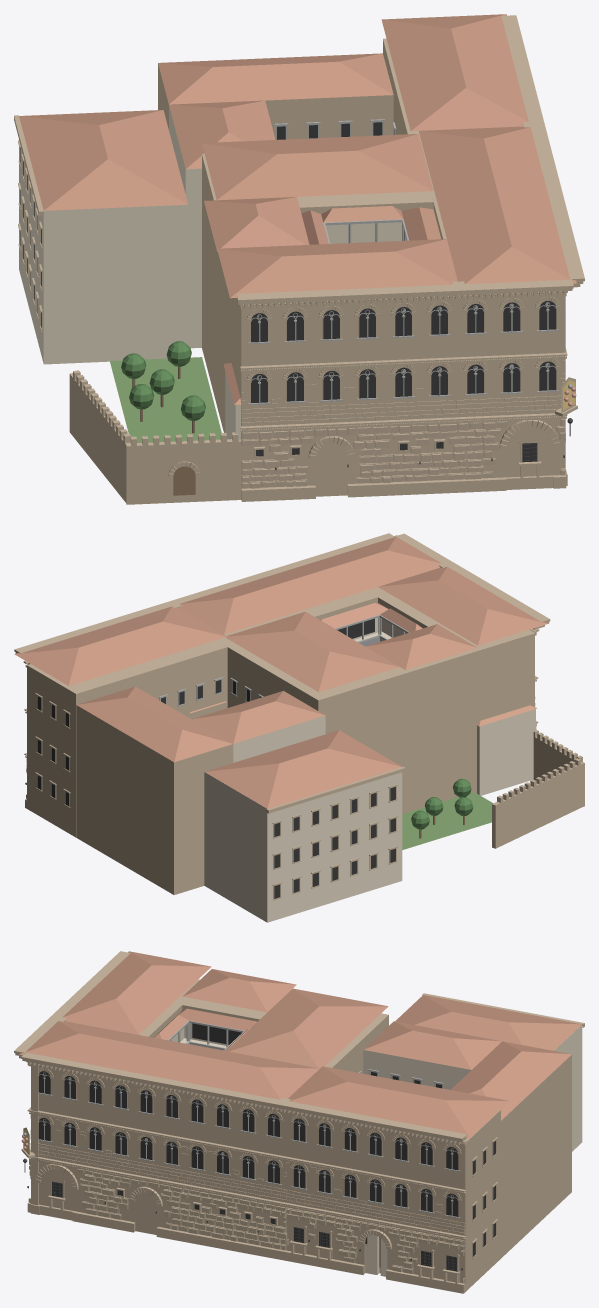
The model's file is medici_riccardi.glb.
3 renders of one model, top to bottom at view 1: azimuth 30°, elevation 25°; view 2: azimuth 150°, elevation 25°; view 3: azimuth 270°, elevation 25°, orthographic. The views are drawn at different scales.
Parts seen in each view (by area): view 1: michelozzo@1452-99999.stone, michelozzo@1452-99999.roof, riccardi@1689-99999.roof, riccardi@1689-99999.plaster, michelozzo_works@1445-1452.stone, garden_wall@1452-99999.stone, riccardi@1689-99999.stone, michelozzo@1452-99999.boss, michelozzo@1452-99999.dark, garden_wall@1452-99999.lawn, courtyard@1452-99999.roof, michelozzo@1452-99999.serena (+6 smaller); view 2: riccardi@1689-99999.stone, michelozzo@1452-99999.stone, michelozzo@1452-99999.roof, riccardi@1689-99999.roof, riccardi@1689-99999.plaster, michelozzo_works@1445-1452.stone, garden_wall@1452-99999.stone, houses_via_larga@1300-1445.plaster, riccardi@1689-99999.dark, garden_wall@1452-99999.lawn, courtyard@1452-99999.roof, garden_wall@1452-99999.hedge; view 3: riccardi@1689-99999.stone, michelozzo@1452-99999.stone, michelozzo@1452-99999.roof, riccardi@1689-99999.roof, michelozzo@1452-99999.boss, michelozzo@1452-99999.dark, riccardi@1689-99999.dark, michelozzo_works@1445-1452.stone, riccardi@1689-99999.plaster, riccardi@1689-99999.boss, michelozzo@1452-99999.serena, riccardi@1689-99999.serena (+6 smaller).
Boxes of the visible parts, box(x1,y1,x2,y2) form: michelozzo@1452-99999.stone: box(202, 122, 584, 501); michelozzo@1452-99999.roof: box(202, 126, 576, 298); riccardi@1689-99999.roof: box(19, 14, 528, 210); riccardi@1689-99999.plaster: box(19, 106, 201, 364); michelozzo_works@1445-1452.stone: box(202, 243, 562, 496); garden_wall@1452-99999.stone: box(69, 370, 241, 504); riccardi@1689-99999.stone: box(14, 15, 544, 332); michelozzo@1452-99999.boss: box(242, 419, 564, 488); michelozzo@1452-99999.dark: box(251, 301, 556, 456); garden_wall@1452-99999.lawn: box(110, 357, 221, 442); courtyard@1452-99999.roof: box(301, 206, 440, 244); michelozzo@1452-99999.serena: box(248, 302, 558, 404); riccardi@1689-99999.stone: box(14, 600, 405, 900); michelozzo@1452-99999.stone: box(167, 533, 550, 813); michelozzo@1452-99999.roof: box(179, 535, 547, 692); riccardi@1689-99999.roof: box(14, 606, 401, 808); riccardi@1689-99999.plaster: box(204, 715, 402, 922); michelozzo_works@1445-1452.stone: box(228, 682, 529, 813); garden_wall@1452-99999.stone: box(492, 729, 584, 848); houses_via_larga@1300-1445.plaster: box(477, 709, 535, 795); riccardi@1689-99999.dark: box(37, 680, 395, 898); garden_wall@1452-99999.lawn: box(402, 792, 493, 849); courtyard@1452-99999.roof: box(320, 602, 422, 632); garden_wall@1452-99999.hedge: box(411, 778, 473, 829); riccardi@1689-99999.stone: box(276, 993, 584, 1293); michelozzo@1452-99999.stone: box(14, 951, 388, 1260); michelozzo@1452-99999.roof: box(19, 951, 388, 1099); riccardi@1689-99999.roof: box(288, 995, 581, 1138); michelozzo@1452-99999.boss: box(28, 1160, 287, 1250); michelozzo@1452-99999.dark: box(38, 1071, 279, 1223); riccardi@1689-99999.dark: box(293, 1072, 495, 1271); michelozzo_works@1445-1452.stone: box(39, 1117, 286, 1250); riccardi@1689-99999.plaster: box(363, 1024, 582, 1151); riccardi@1689-99999.boss: box(286, 1207, 463, 1283); michelozzo@1452-99999.serena: box(38, 1072, 281, 1185); riccardi@1689-99999.serena: box(291, 1069, 460, 1218).
Size of the model in its own units: 82.95 by 30.4 by 92.07.
